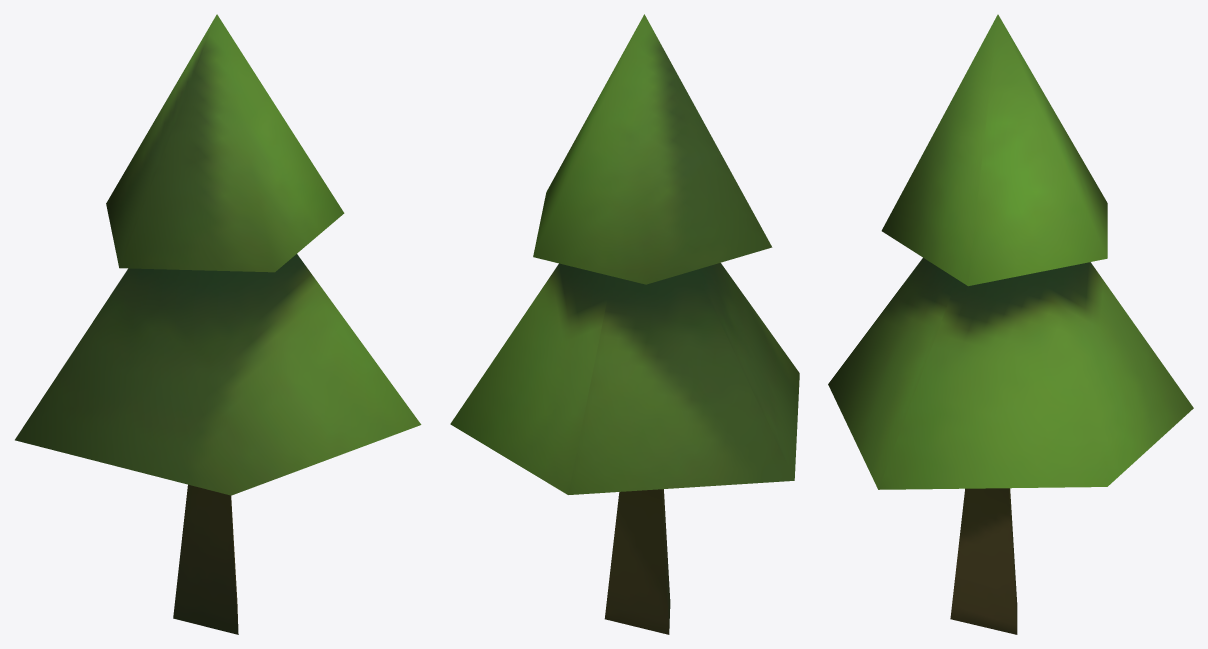
The model's file is Sce_worldmap_tree_b04.FBX.
3 views of the same model, side by side, from view 1: azimuth 30°, elevation 25°; view 2: azimuth 150°, elevation 25°; view 3: azimuth 270°, elevation 25° (orthographic).
Visible parts, largest first — view 1: polySurface4; view 2: polySurface4; view 3: polySurface4.
Part boxes in pixels (x1=…): polySurface4: x1=15, y1=14, x2=421, y2=634; polySurface4: x1=450, y1=14, x2=799, y2=634; polySurface4: x1=828, y1=14, x2=1193, y2=634.
Size of the model in its own units: 29.9 by 53.68 by 29.36.
